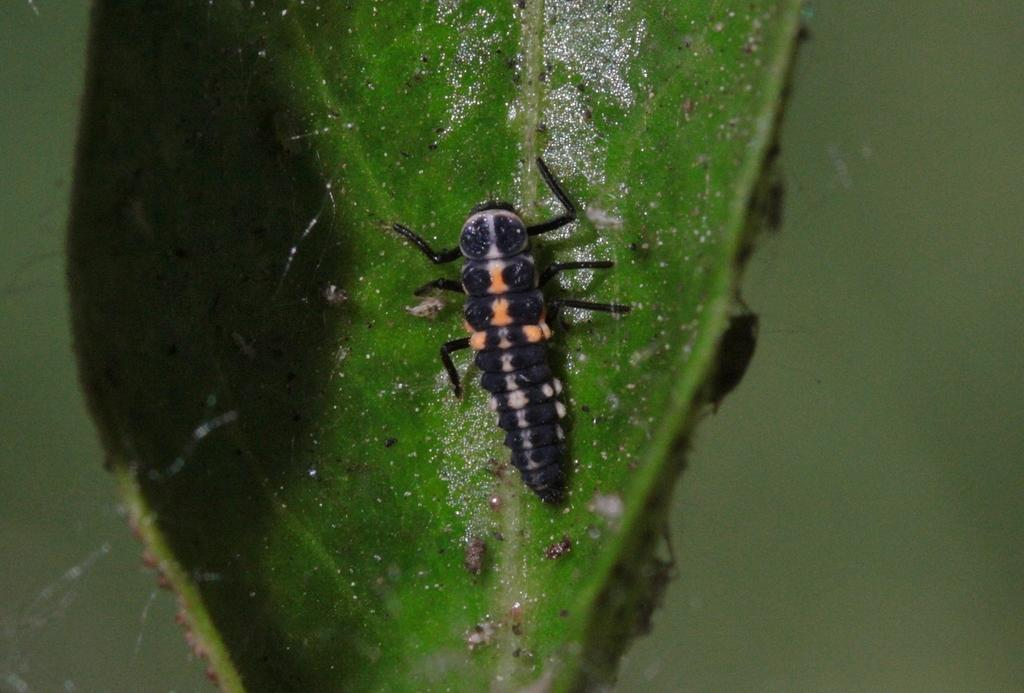ladybug: (389, 153, 637, 511)
